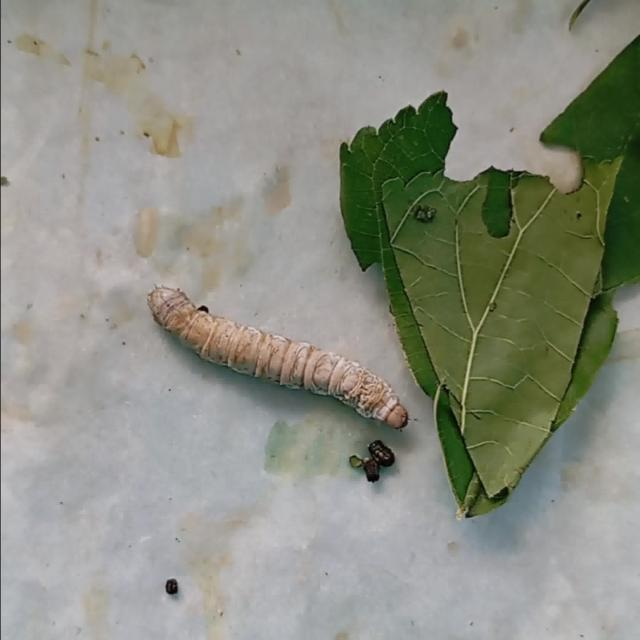Grasserie: (141, 276, 412, 437)
